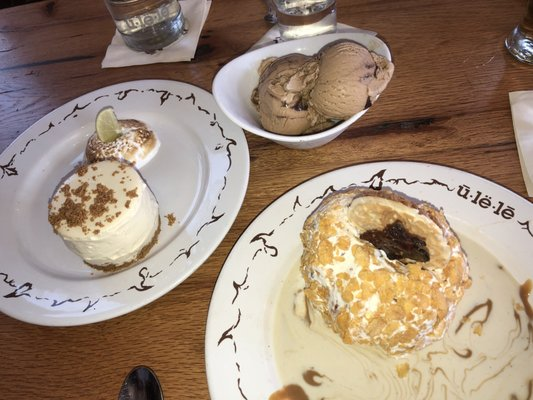pizza: (103, 0, 186, 54)
salad: (116, 365, 164, 400)
sushi: (211, 32, 395, 150)
